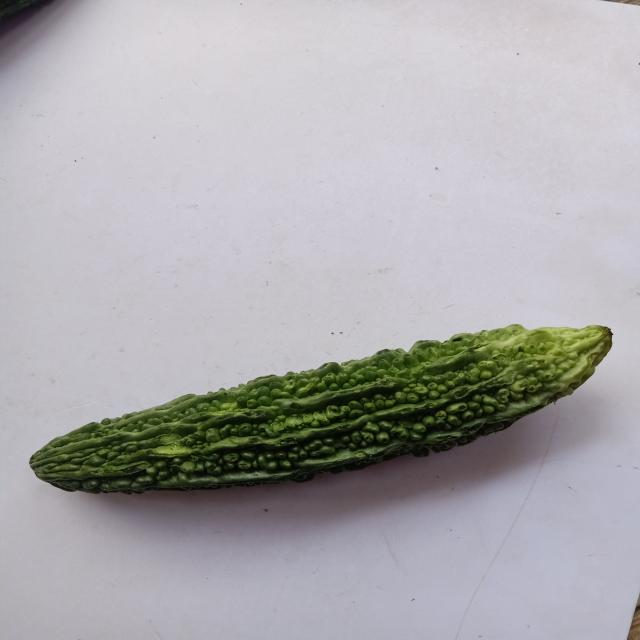Bitter Gourd: (22, 311, 640, 547)
